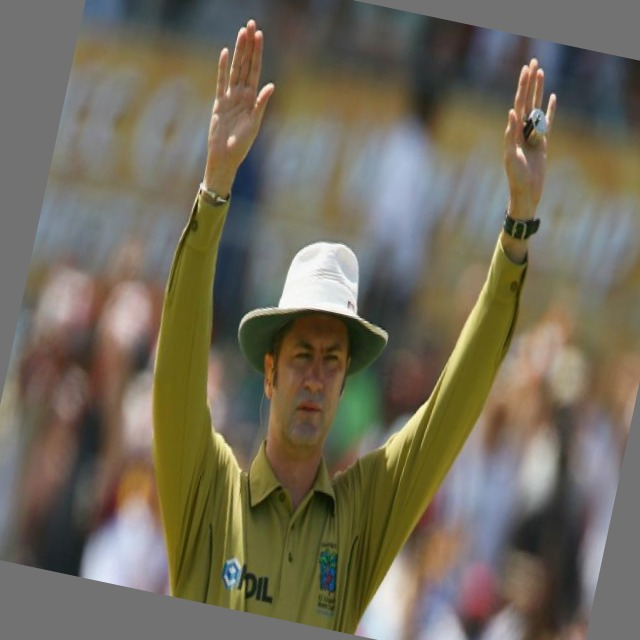Six: (93, 0, 582, 640)
